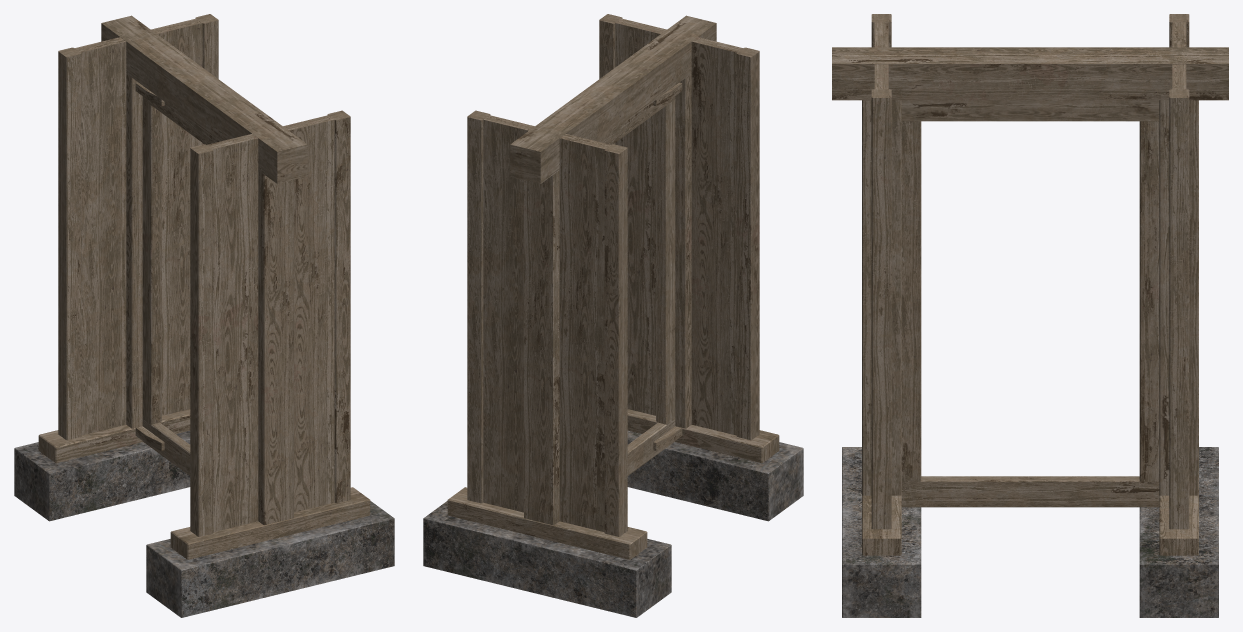
File: SM_OGM_Door.fbx
3 views of the same model, side by side, from view 1: azimuth 30°, elevation 25°; view 2: azimuth 150°, elevation 25°; view 3: azimuth 270°, elevation 25° (orthographic). The views are drawn at different scales.
Visible parts, largest first — view 1: SM_OGM_Door; view 2: SM_OGM_Door; view 3: SM_OGM_Door.
Part boxes in pixels (x1=…): SM_OGM_Door: x1=14, y1=14, x2=394, y2=617; SM_OGM_Door: x1=423, y1=14, x2=803, y2=617; SM_OGM_Door: x1=832, y1=14, x2=1228, y2=617.
Size of the model in its own units: 140 by 200 by 280.
Materials: 2 (2 with a texture image).
